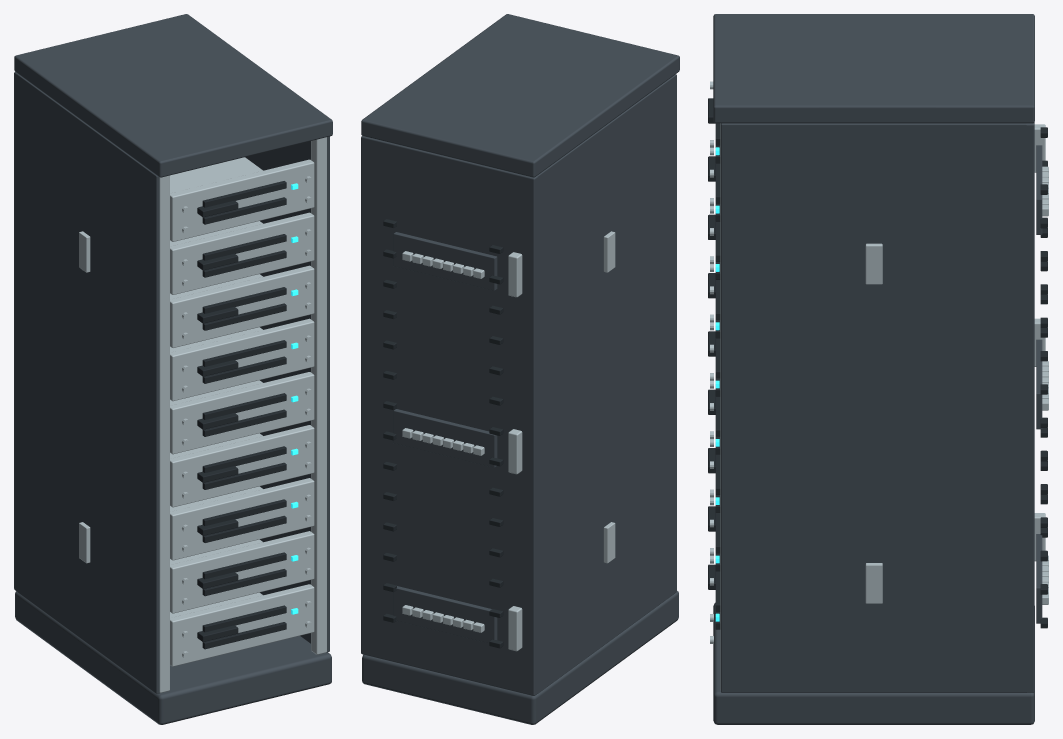
File: compute-rack.glb
3 views of the same model, side by side, from view 1: azimuth 30°, elevation 25°; view 2: azimuth 150°, elevation 25°; view 3: azimuth 270°, elevation 25° (orthographic). The views are drawn at different scales.
Parts seen in each view (by area): view 1: data-centre-infiltration-kit-compute-rack; view 2: data-centre-infiltration-kit-compute-rack; view 3: data-centre-infiltration-kit-compute-rack.
Part boxes in pixels (x1,y1,x2,y2): data-centre-infiltration-kit-compute-rack: (14, 14, 332, 724); data-centre-infiltration-kit-compute-rack: (361, 14, 679, 724); data-centre-infiltration-kit-compute-rack: (708, 14, 1048, 724).
Bounding box in the file's own units: 0.754 × 2.23 × 1.11.
